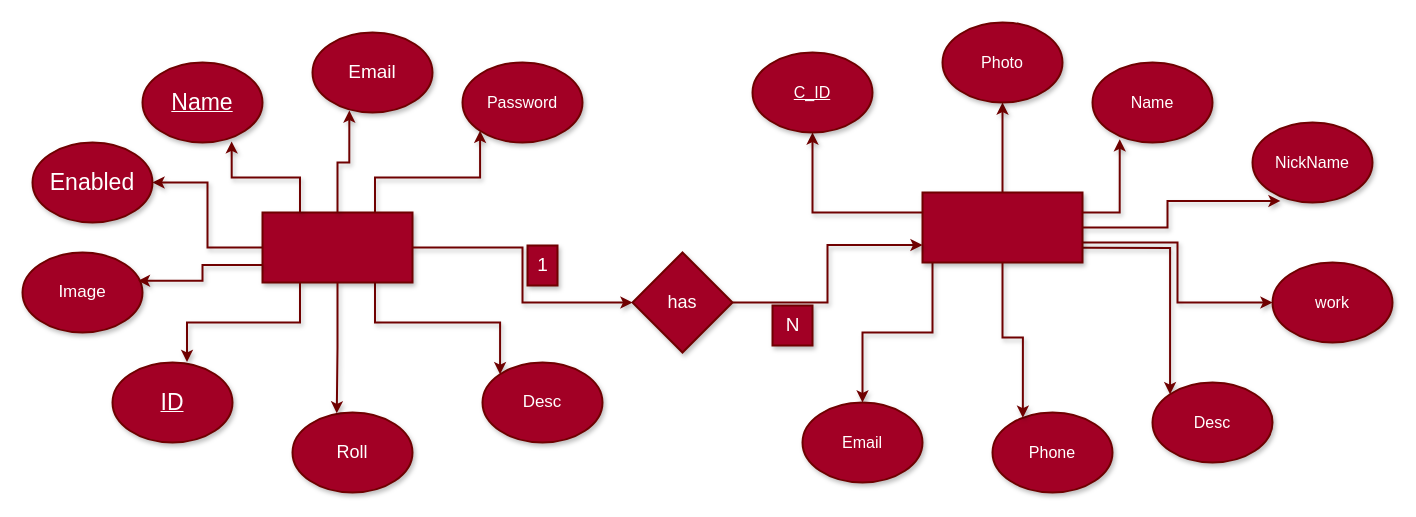
Some shapes in this 1416 by 517 pixel diagram are drawn without their labels. Each missing label, with the centre of its shape:
"Contact" goes at point (1003, 228).
"User" goes at point (338, 248).
